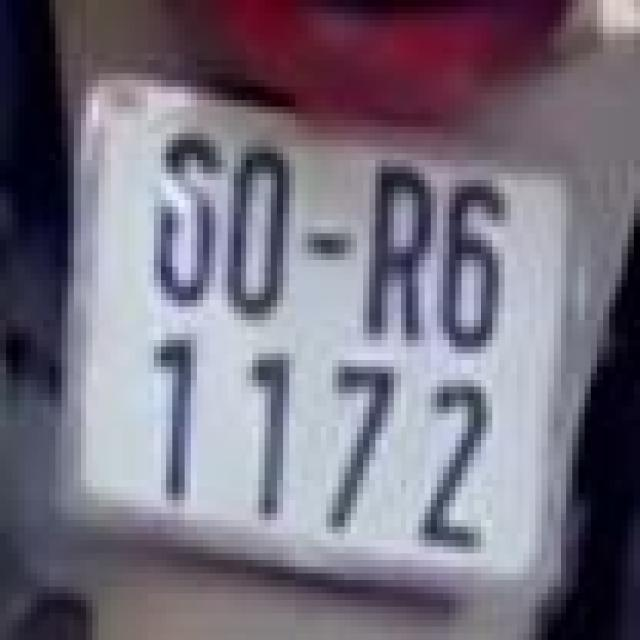0: (225, 133, 292, 320)
1: (230, 336, 304, 536), (138, 320, 212, 513)
2: (418, 370, 492, 557)
6: (138, 113, 218, 320), (434, 167, 520, 353)
7: (311, 346, 403, 546)
R: (351, 157, 431, 343)
